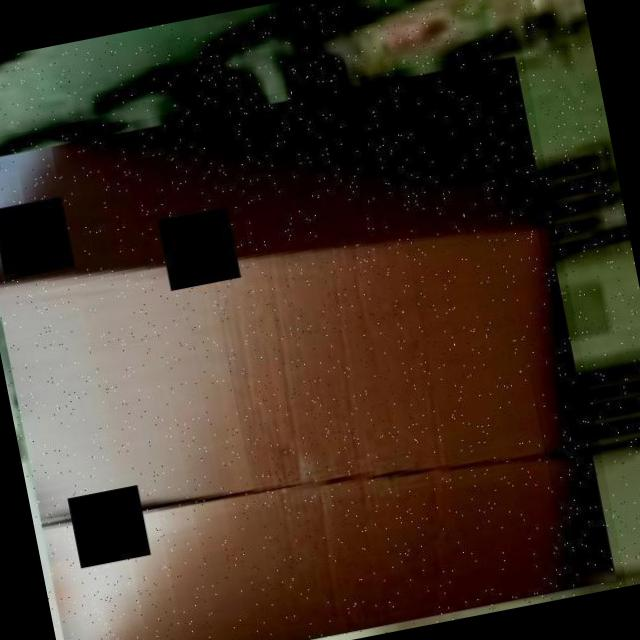box: (0, 45, 627, 640)
